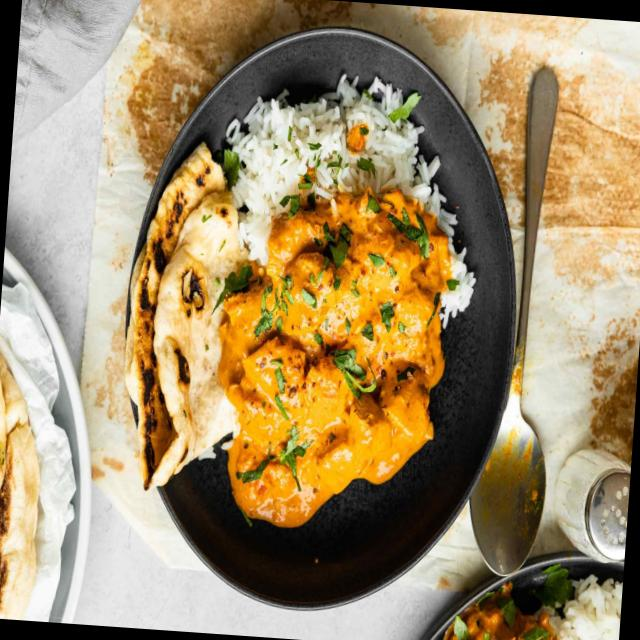chicken: (229, 216, 460, 540)
roti: (116, 163, 240, 506), (0, 371, 53, 610)
